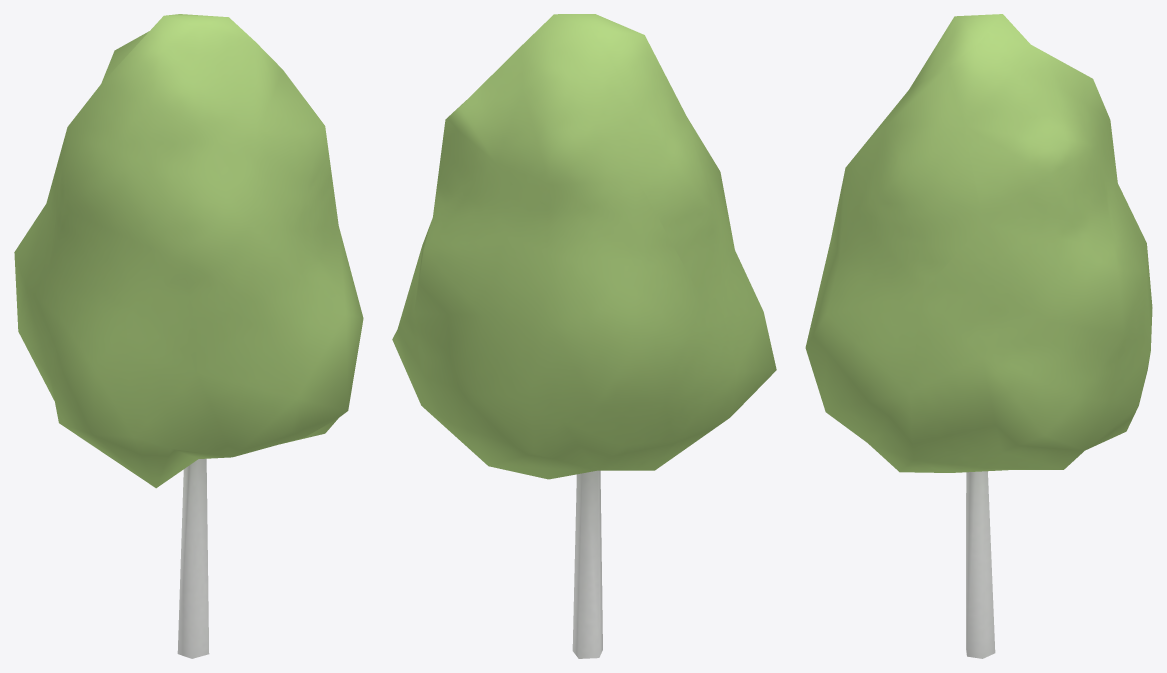
The picture shows the model from 3 angles, left to right: view 1: azimuth 30°, elevation 25°; view 2: azimuth 150°, elevation 25°; view 3: azimuth 270°, elevation 25°; orthographic projection.
Parts seen in each view (by area): view 1: Berez .001; view 2: Berez .001; view 3: Berez .001.
Part boxes in pixels (x1,y1,x2,y2): Berez .001: (14,14,363,658); Berez .001: (392,14,776,658); Berez .001: (805,14,1152,658).
Size of the model in its own units: 10.18 by 20 by 9.99.
1 material, 1 textured.
